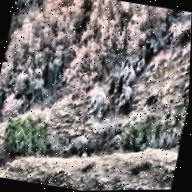boar: (61, 130, 92, 164), (86, 84, 111, 124), (116, 85, 135, 115), (121, 65, 139, 94), (96, 95, 112, 124), (112, 69, 128, 97), (105, 69, 120, 97), (135, 54, 148, 76)
